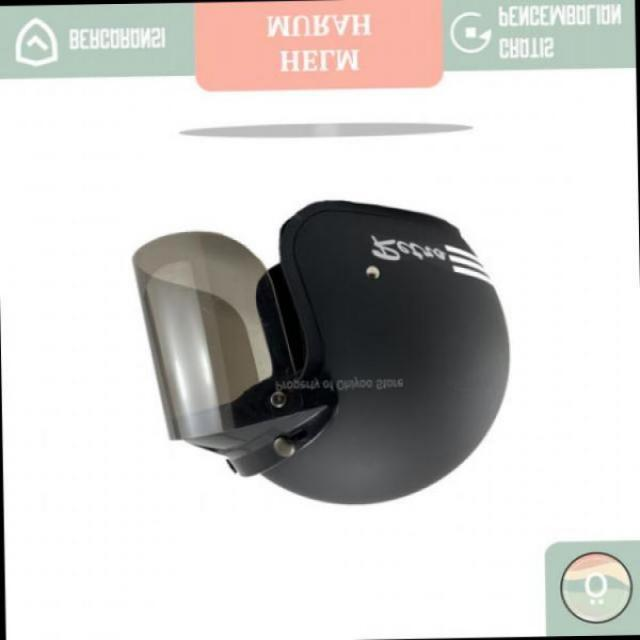Helmet: (108, 215, 542, 502)
